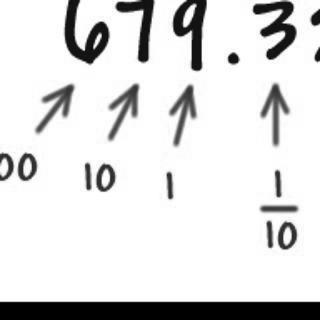.: (223, 44, 247, 72)
0: (15, 150, 43, 184), (95, 163, 118, 199), (277, 221, 300, 256)
1: (266, 167, 287, 201), (159, 170, 178, 203), (79, 160, 93, 194), (262, 220, 277, 251)
3: (251, 1, 296, 66)
6: (62, 2, 109, 64)
7: (116, 1, 154, 66)
9: (167, 1, 213, 75)
